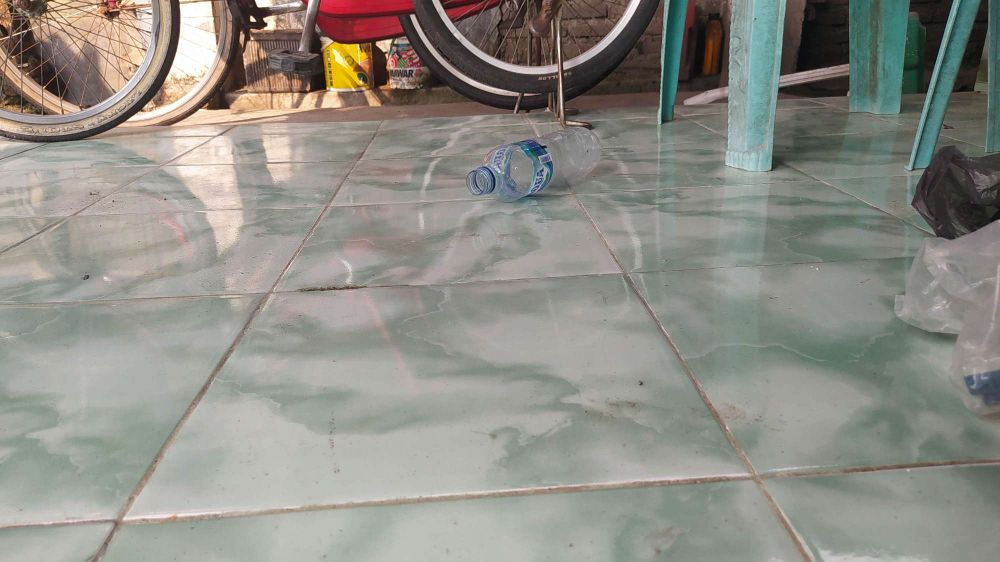botol: (462, 112, 621, 202)
plastik: (907, 135, 1000, 392)
